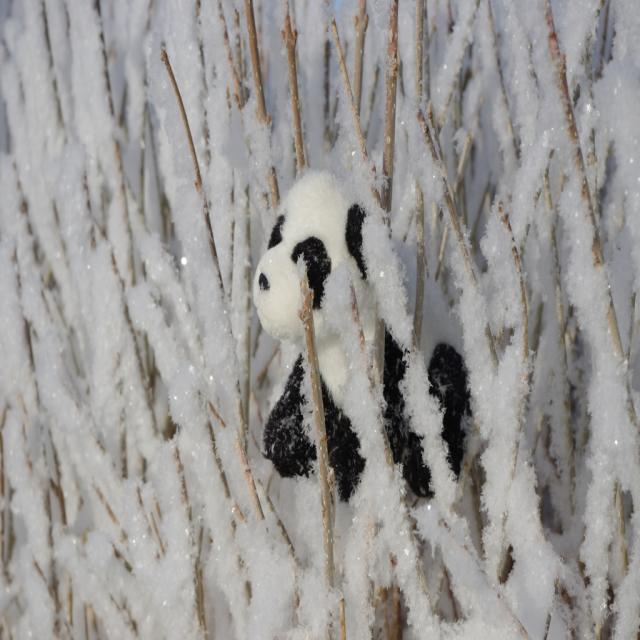panda: (249, 156, 472, 497)
